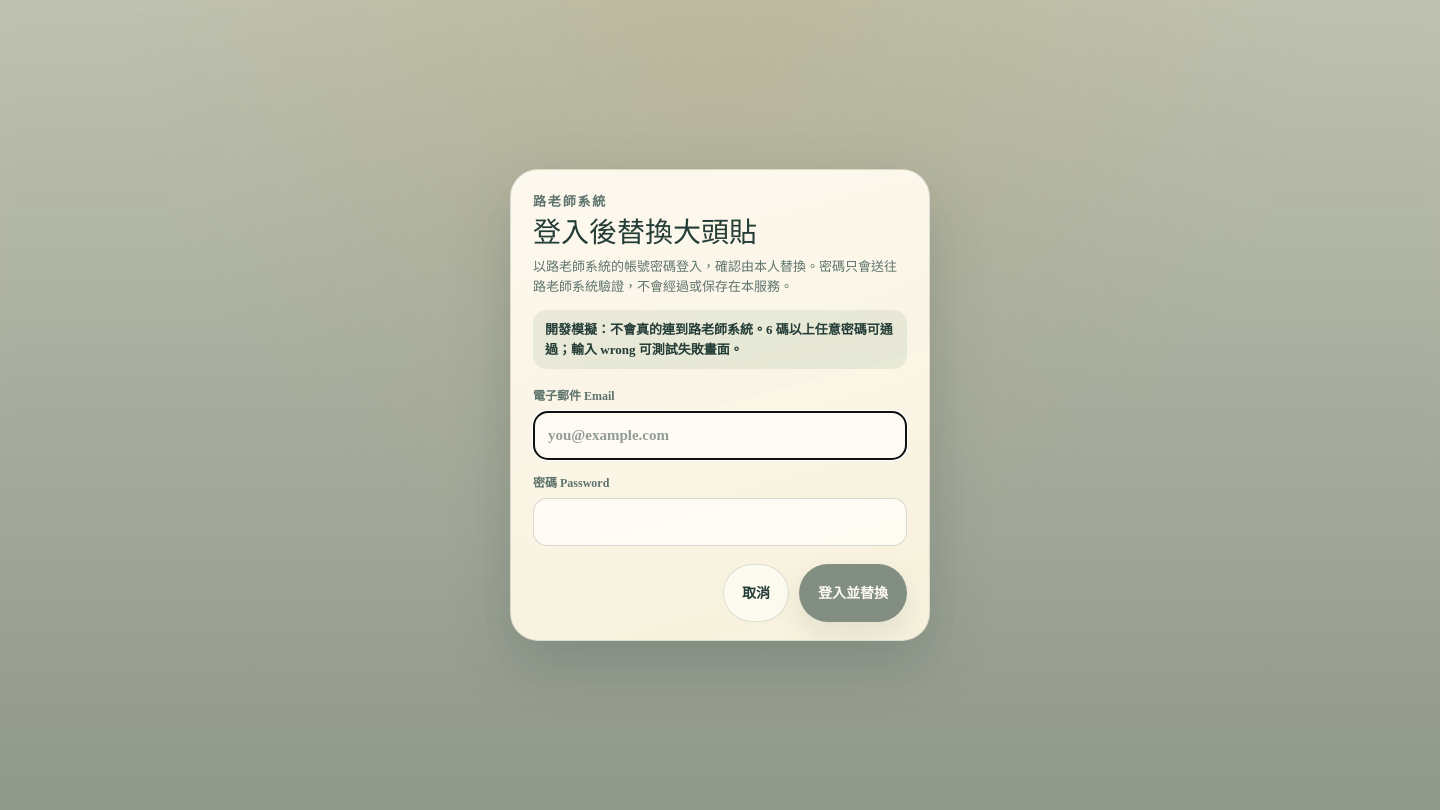
Test case: RoadTeacherLoginModal › surfaces an avatar endpoint failure inline
In the field labelled "電子郵件 Email": {"x": 720, "y": 436} [533,411,907,460], type "guest@example.com"
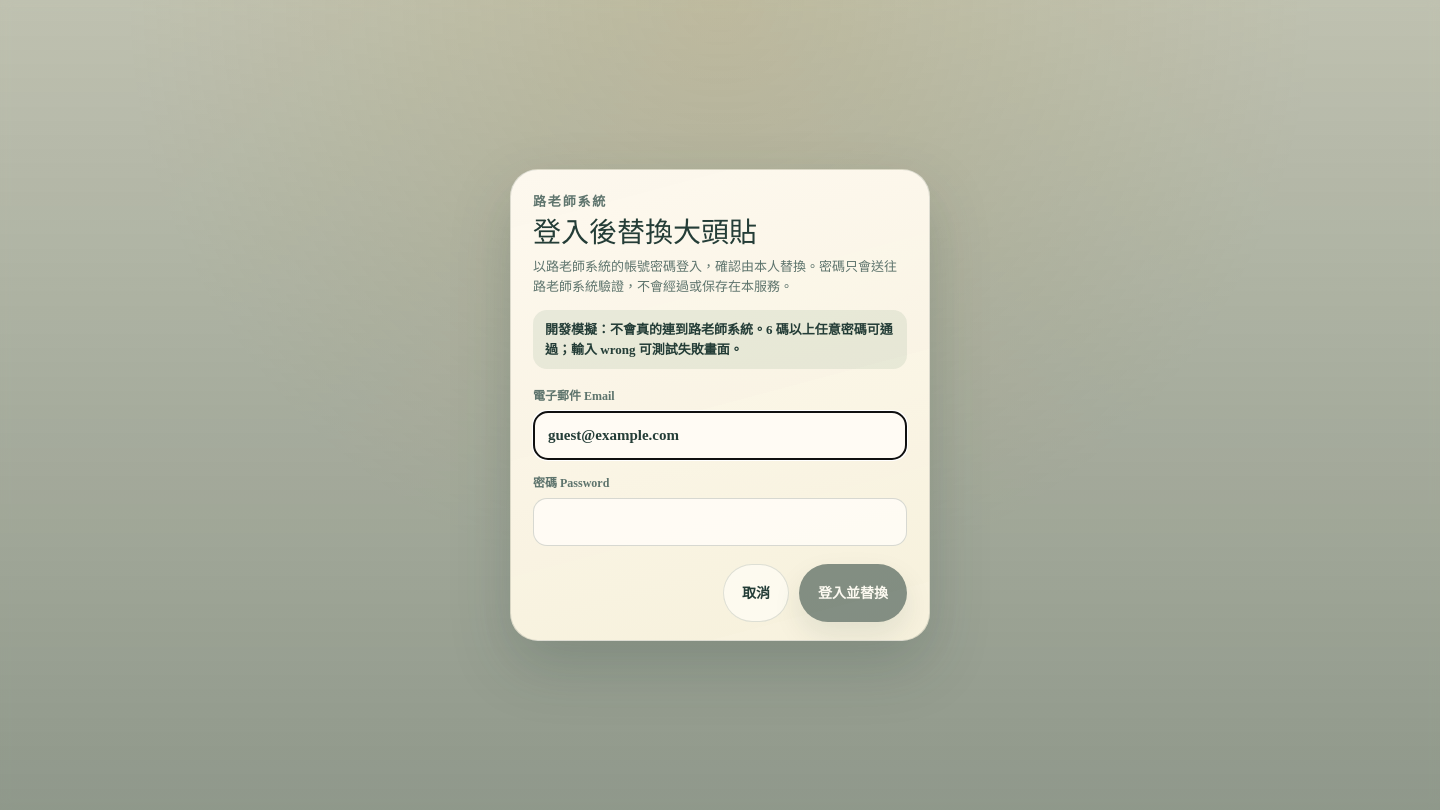
In the password field labelled "密碼 Password": {"x": 720, "y": 522} [533,498,907,546], type "sunny-day"
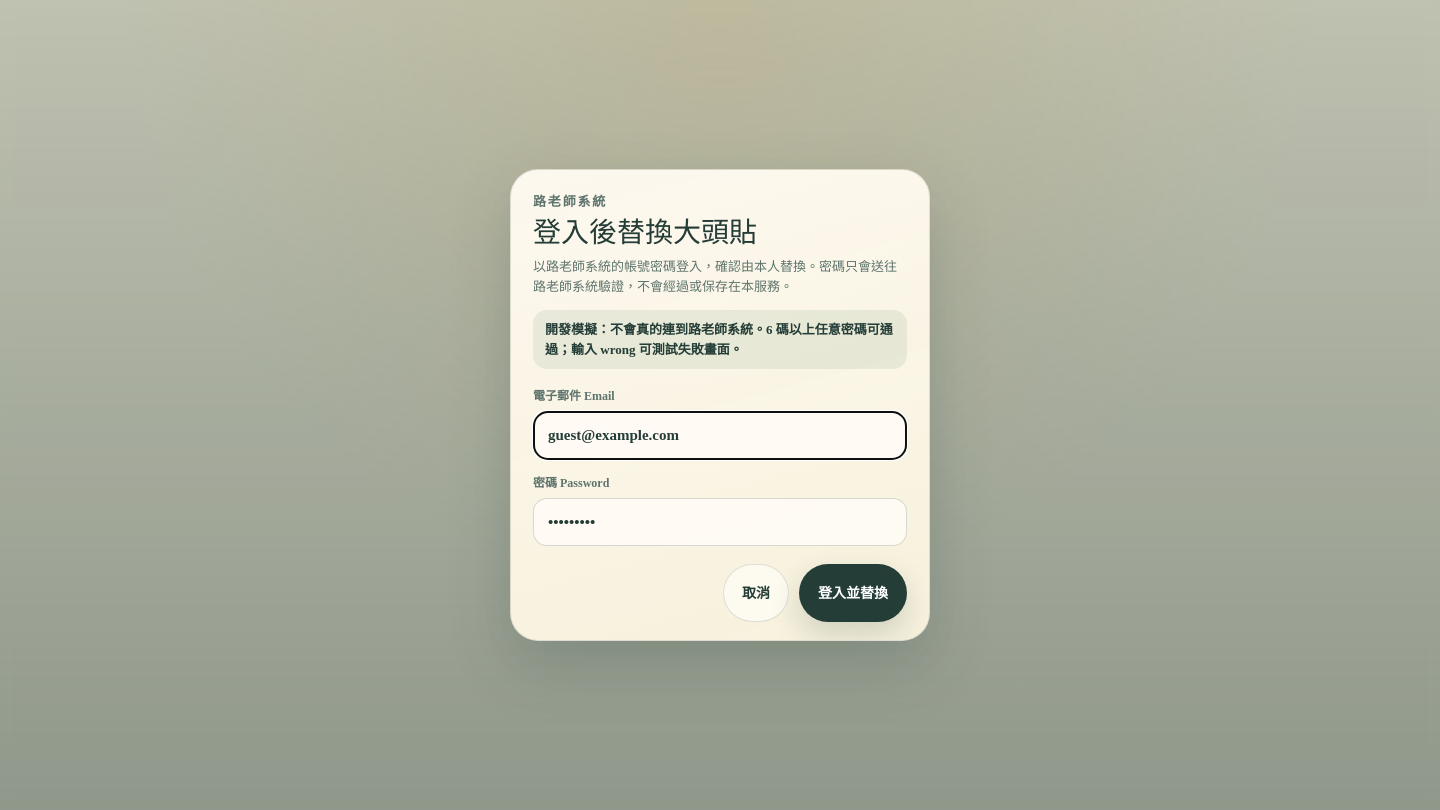
Click the button "登入並替換": {"x": 853, "y": 593} [799,564,907,622]
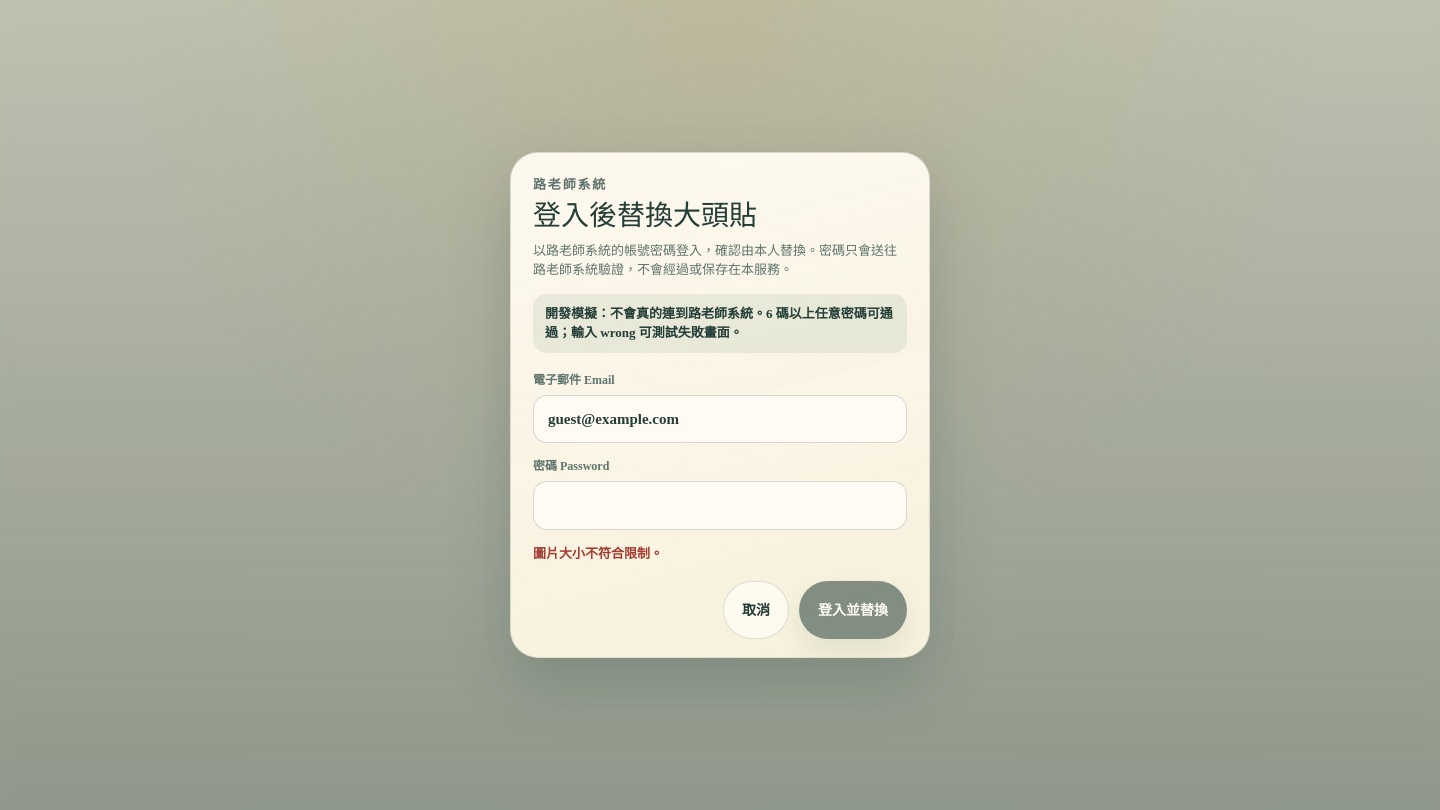
Expected: the text "圖片大小不符合限制。" is shown, [533,546,663,561]
